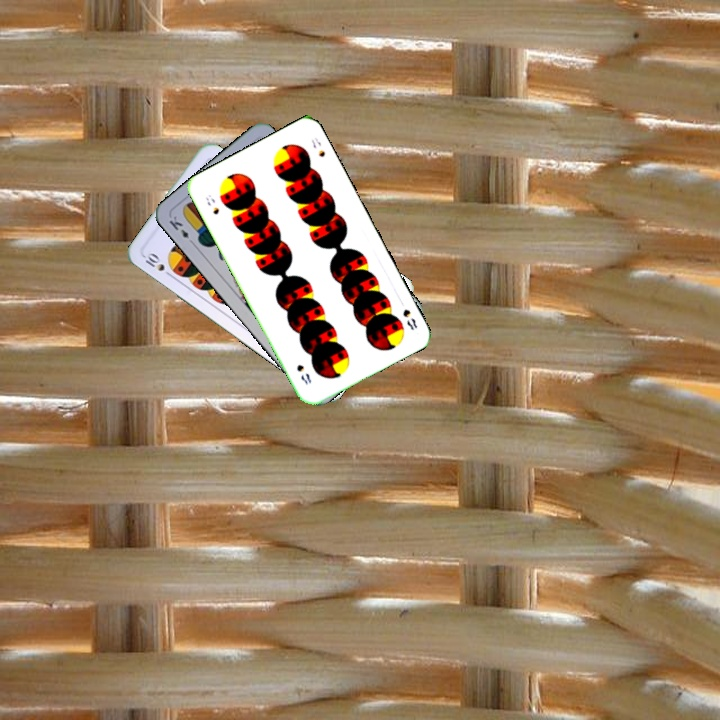EK: (165, 212, 197, 248)
S10: (141, 249, 175, 280)
S8: (398, 305, 420, 333), (202, 190, 222, 217)
